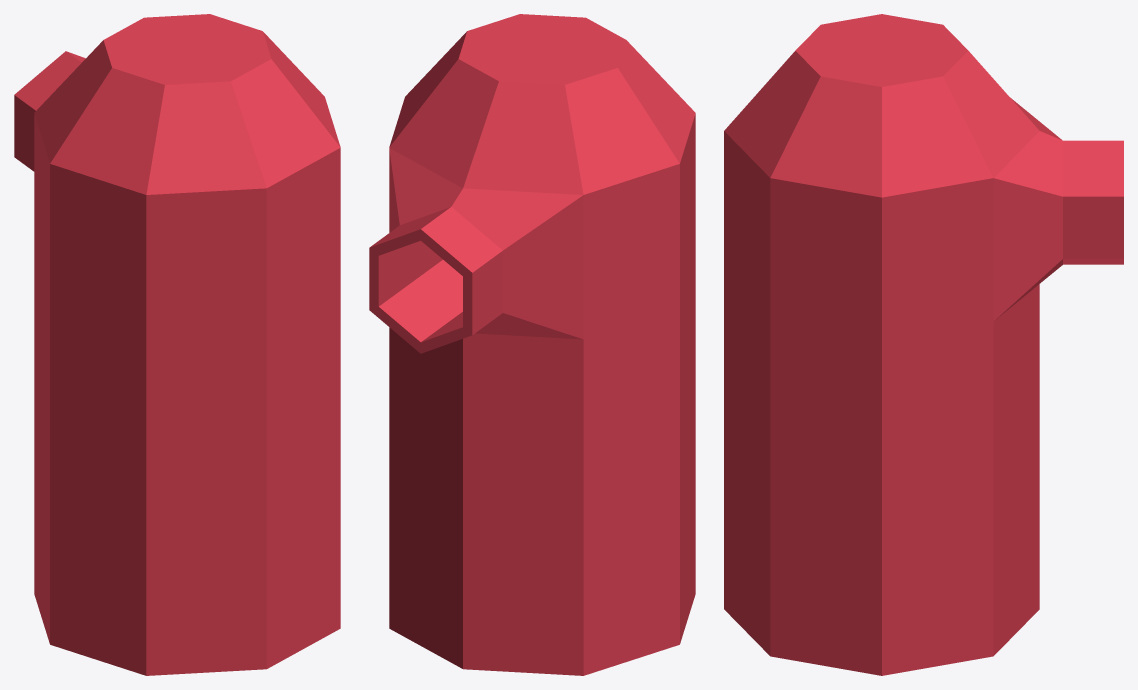
File: гидрант.fbx
3 renders of one model, left to right at view 1: azimuth 30°, elevation 25°; view 2: azimuth 150°, elevation 25°; view 3: azimuth 270°, elevation 25°, orthographic.
Parts seen in each view (by area): view 1: гидрант; view 2: гидрант; view 3: гидрант.
Boxes of the visible parts, left/top/right/bottom form: гидрант: left=14, top=14, right=340, bottom=675; гидрант: left=369, top=14, right=695, bottom=675; гидрант: left=724, top=14, right=1123, bottom=675.
Size of the model in its own units: 2.41 by 4.71 by 3.06.
